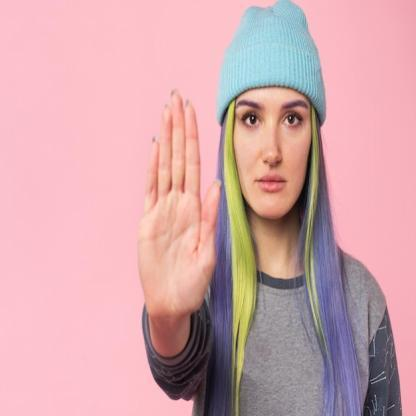stop: (136, 82, 224, 318)
